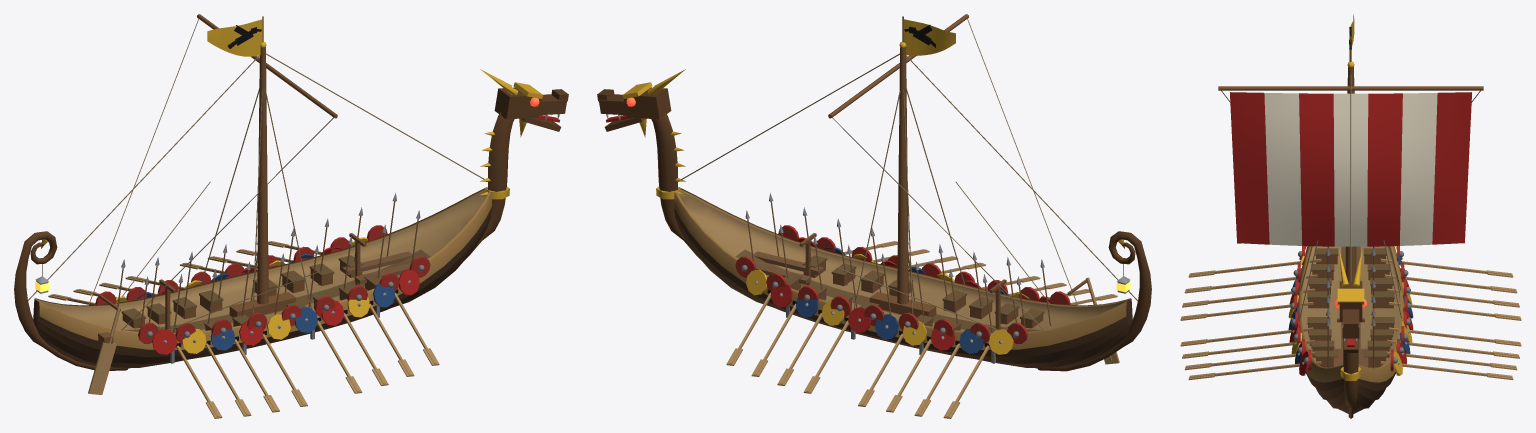
Rendered from longship-boarding-3.glb.
The picture shows the model from 3 angles, left to right: view 1: azimuth 30°, elevation 25°; view 2: azimuth 150°, elevation 25°; view 3: azimuth 270°, elevation 25°; orthographic projection. The views are drawn at different scales.
Parts seen in each view (by area): view 1: Mesh_DeckAndBulwarks, Mesh_Hull, Mesh_TrimSheerStrake, Mesh_MastPole, Mesh_DragonTail, Mesh_DragonNeck, Mesh_Flag_Raven, Mesh_DragonSkull, Mesh_DeckLane, Mesh_MastFish, Mesh_SteerOarBlade, Mesh_YardArm (+1 smaller); view 2: Mesh_DeckAndBulwarks, Mesh_Hull, Mesh_TrimSheerStrake, Mesh_MastPole, Mesh_DragonTail, Mesh_DragonNeck, Mesh_Flag_Raven, Mesh_DragonSkull, Mesh_DeckLane, Mesh_MastFish, Mesh_YardArm, Mesh_BoardingBridge_0.48; view 3: Mesh_Sail_Main, Mesh_Sail_Stripe1, Mesh_Sail_Stripe2, Mesh_Sail_Stripe0, Mesh_Sail_Stripe3, Mesh_DeckAndBulwarks, Mesh_TrimSheerStrake, Mesh_Hull, Mesh_YardArm, Mesh_DragonNeck, Mesh_MastPole, Mesh_OarR0Loom (+20 smaller).
Part boxes in pixels (left/top/right/bottom): Mesh_DeckAndBulwarks: left=35, top=190, right=486, bottom=330; Mesh_Hull: left=33, top=207, right=491, bottom=367; Mesh_TrimSheerStrake: left=34, top=187, right=491, bottom=349; Mesh_MastPole: left=257, top=47, right=268, bottom=304; Mesh_DragonTail: left=14, top=231, right=127, bottom=370; Mesh_DragonNeck: left=465, top=112, right=514, bottom=259; Mesh_Flag_Raven: left=207, top=19, right=262, bottom=56; Mesh_DragonSkull: left=494, top=87, right=541, bottom=119; Mesh_DeckLane: left=124, top=249, right=430, bottom=332; Mesh_MastFish: left=229, top=292, right=296, bottom=317; Mesh_SteerOarBlade: left=88, top=342, right=116, bottom=394; Mesh_YardArm: left=197, top=14, right=337, bottom=118; Mesh_DeckAndBulwarks: left=679, top=190, right=1130, bottom=330; Mesh_Hull: left=674, top=207, right=1132, bottom=367; Mesh_TrimSheerStrake: left=674, top=187, right=1131, bottom=349; Mesh_MastPole: left=897, top=47, right=908, bottom=304; Mesh_DragonTail: left=1038, top=231, right=1151, bottom=371; Mesh_DragonNeck: left=651, top=112, right=700, bottom=259; Mesh_Flag_Raven: left=903, top=19, right=955, bottom=55; Mesh_DragonSkull: left=624, top=87, right=671, bottom=119; Mesh_DeckLane: left=735, top=249, right=1041, bottom=332; Mesh_MastFish: left=869, top=292, right=936, bottom=317; Mesh_YardArm: left=828, top=14, right=968, bottom=118; Mesh_BoardingBridge_0.48: left=754, top=251, right=823, bottom=275; Mesh_Sail_Main: left=1264, top=93, right=1437, bottom=246; Mesh_Sail_Stripe1: left=1367, top=93, right=1402, bottom=246; Mesh_Sail_Stripe2: left=1299, top=93, right=1334, bottom=246; Mesh_Sail_Stripe0: left=1432, top=92, right=1471, bottom=244; Mesh_Sail_Stripe3: left=1230, top=92, right=1269, bottom=244; Mesh_DeckAndBulwarks: left=1301, top=246, right=1400, bottom=368; Mesh_TrimSheerStrake: left=1297, top=246, right=1404, bottom=382; Mesh_Hull: left=1306, top=372, right=1395, bottom=413; Mesh_YardArm: left=1218, top=86, right=1483, bottom=90; Mesh_DragonNeck: left=1343, top=339, right=1358, bottom=418; Mesh_MastPole: left=1345, top=67, right=1356, bottom=281; Mesh_OarR0Loom: left=1188, top=258, right=1321, bottom=277.
Bounding box in the file's own units: 24.36 × 13.54 × 13.51.
